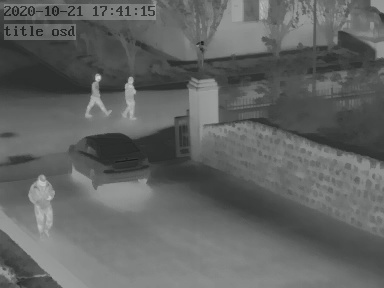person: (29, 173, 55, 238), (86, 72, 110, 120), (123, 75, 138, 117)
vehicle: (69, 132, 151, 189)
